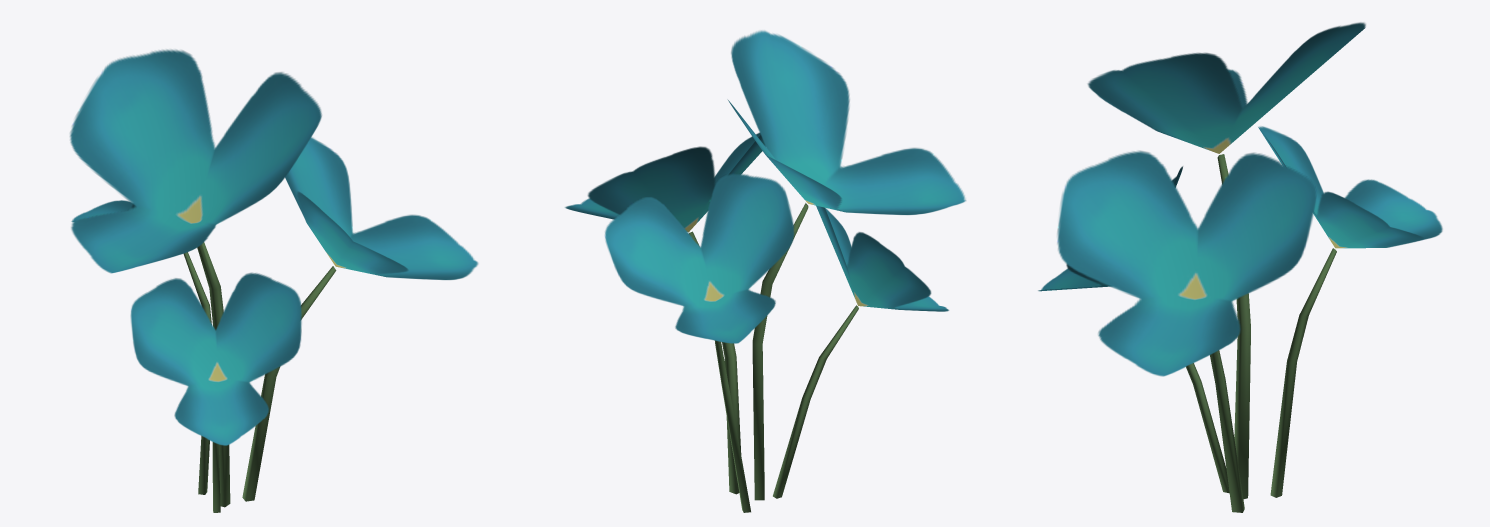
Rendered from Flower_3_Clump.gltf.
3 views of the same model, side by side, from view 1: azimuth 30°, elevation 25°; view 2: azimuth 150°, elevation 25°; view 3: azimuth 270°, elevation 25° (orthographic). The views are drawn at different scales.
Visible parts, largest first — view 1: Flower_3_Clump; view 2: Flower_3_Clump; view 3: Flower_3_Clump.
Part boxes in pixels (x1,y1,x2,y2): Flower_3_Clump: (70, 49, 478, 512); Flower_3_Clump: (565, 30, 965, 512); Flower_3_Clump: (1038, 22, 1442, 512).
Size of the model in its own units: 0.426 by 0.4508 by 0.3735.
Materials: 1 (1 with a texture image).
